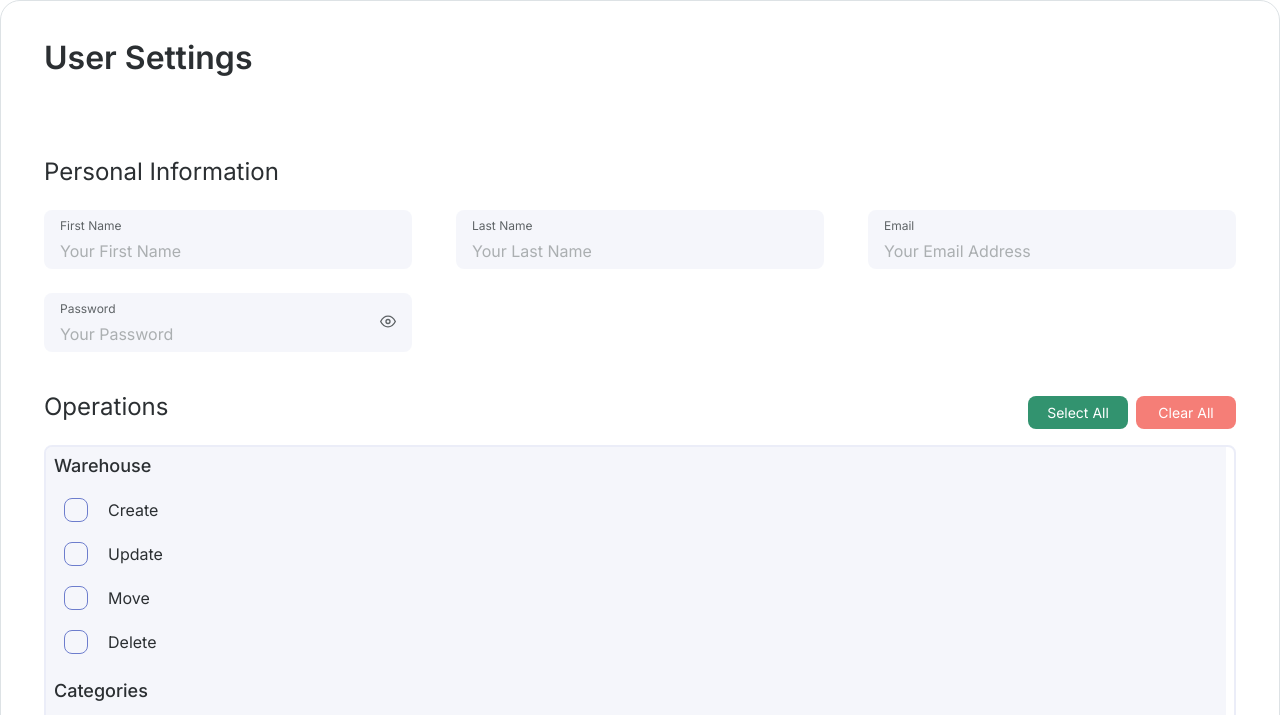
UserForm.vue › shows password strength error
The width and height of the screenshot is (1280, 715).
Type "123" into the password field with placeholder "Your Password". click: (228, 334)
box: 60,324 -> 396,344
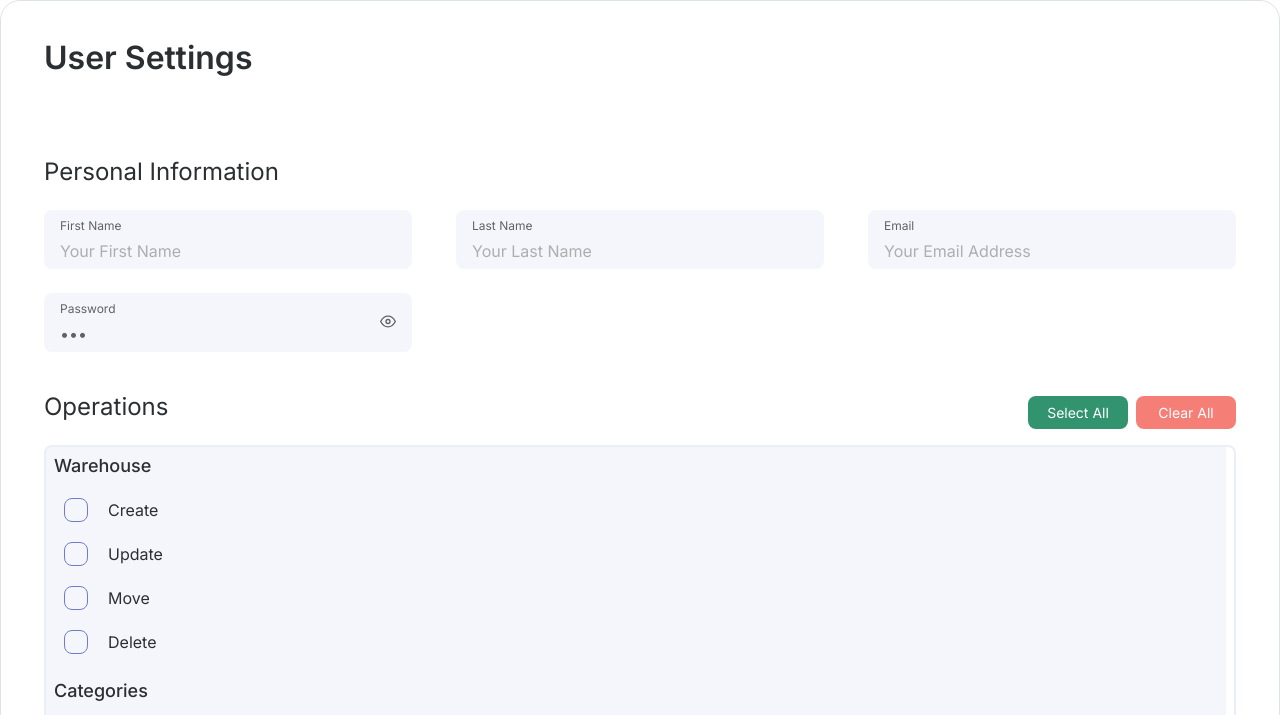
Leave the password field with placeholder "Your Password", box 60,324 -> 396,344
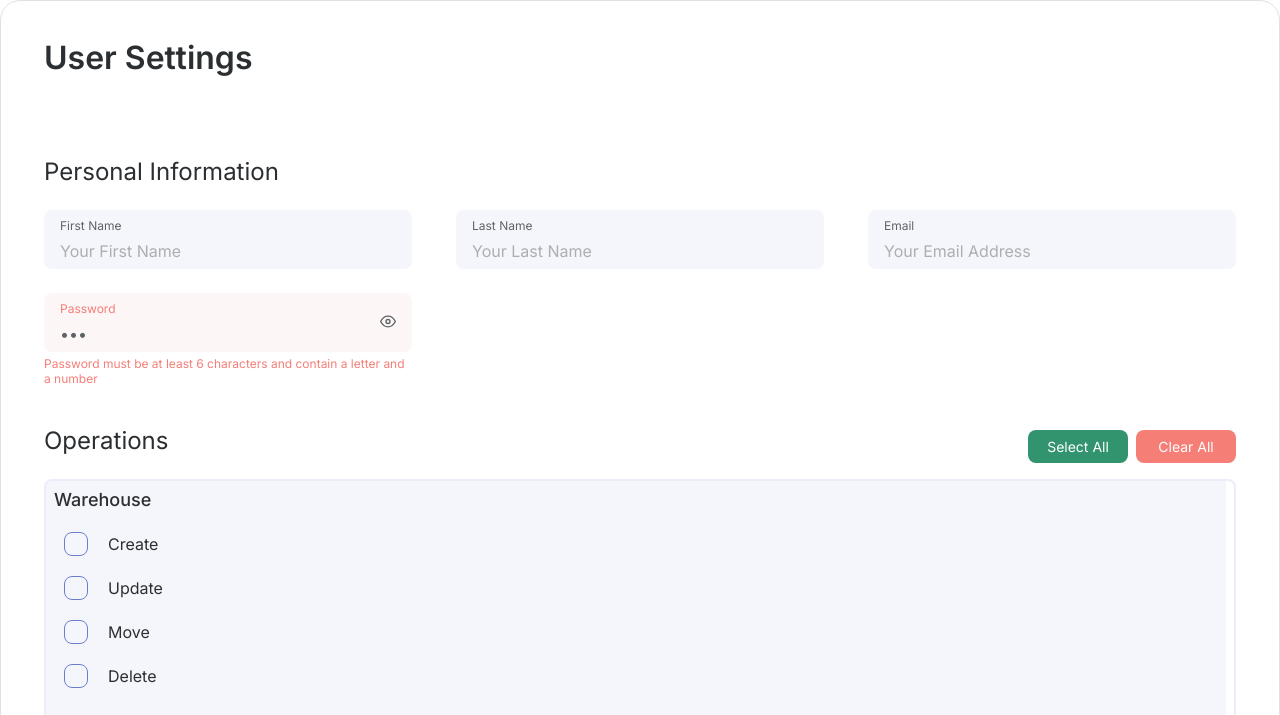
Now the text "Password must be at least 6 characters" is shown, box 44,356 -> 405,386
